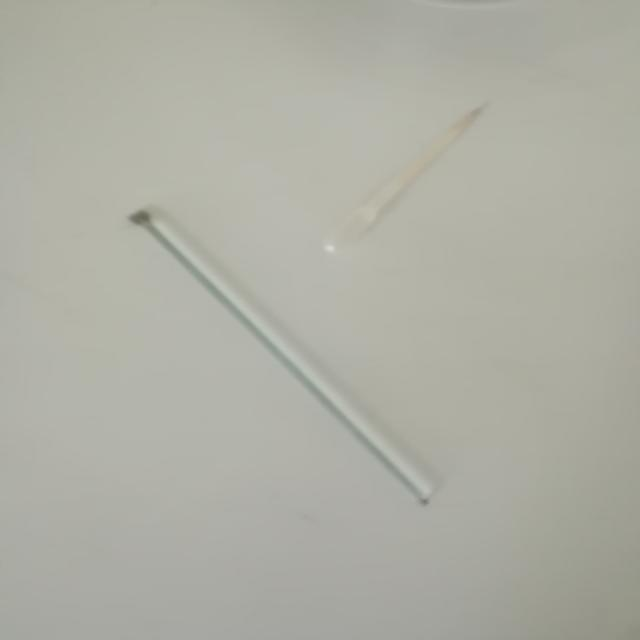Glass_Rod: (117, 196, 452, 529), (301, 79, 506, 273)
